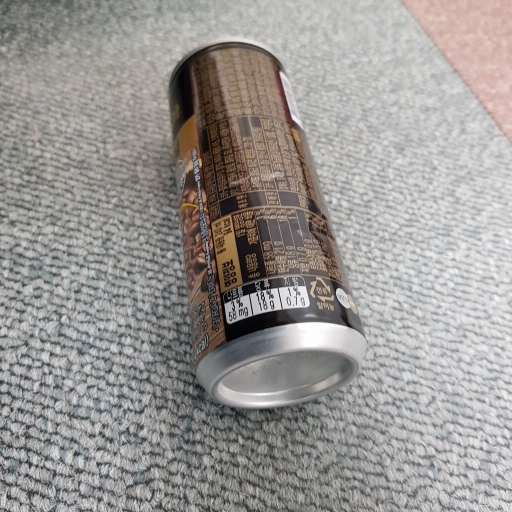Metal_0: (165, 36, 367, 418)
